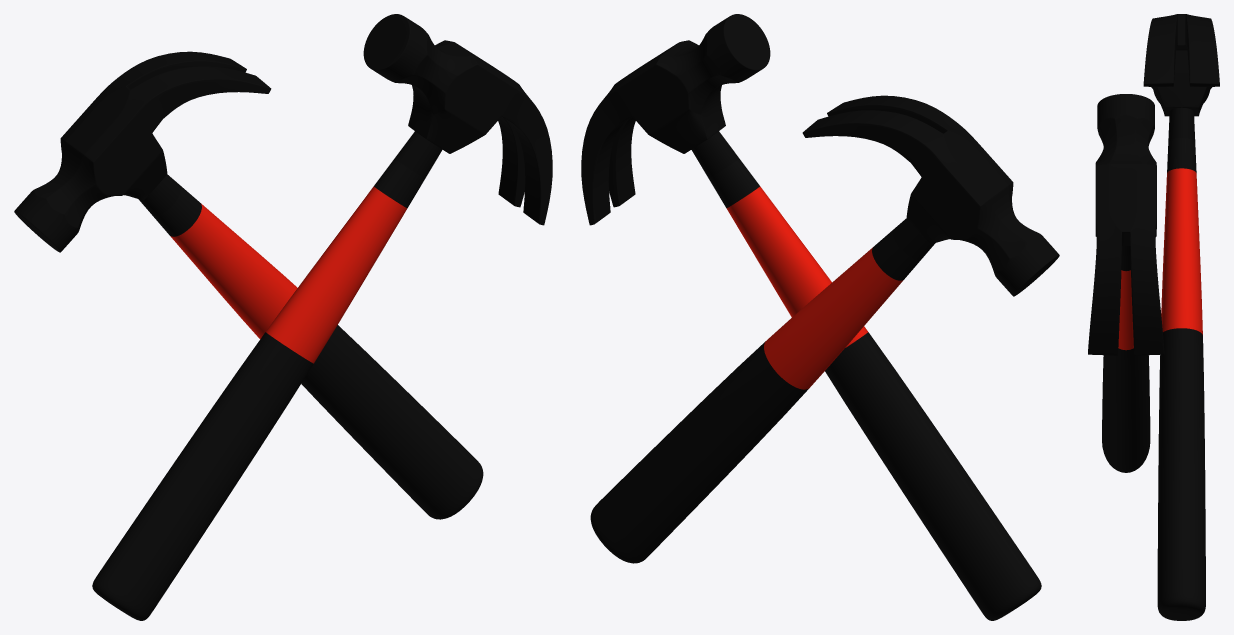
The model's file is hammer_wall.FBX.
3 views of the same model, side by side, from view 1: azimuth 30°, elevation 25°; view 2: azimuth 150°, elevation 25°; view 3: azimuth 270°, elevation 25° (orthographic). The views are drawn at different scales.
Parts seen in each view (by area): view 1: hammer1, hammer2; view 2: hammer2, hammer1; view 3: hammer2, hammer1.
Part boxes in pixels (bbox=[...]): hammer1: bbox=[92, 14, 552, 620]; hammer2: bbox=[14, 51, 483, 519]; hammer2: bbox=[590, 95, 1059, 563]; hammer1: bbox=[581, 14, 1041, 620]; hammer2: bbox=[1143, 14, 1219, 620]; hammer1: bbox=[1088, 94, 1164, 472].
Bounding box in the file's own units: 7.6 × 8.04 × 1.93.
